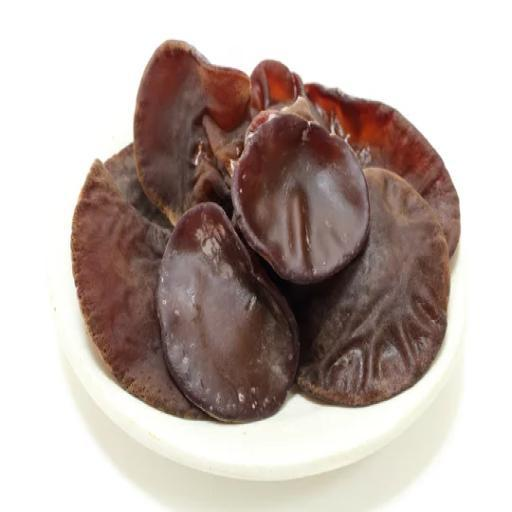mushroom: (65, 30, 465, 436)
